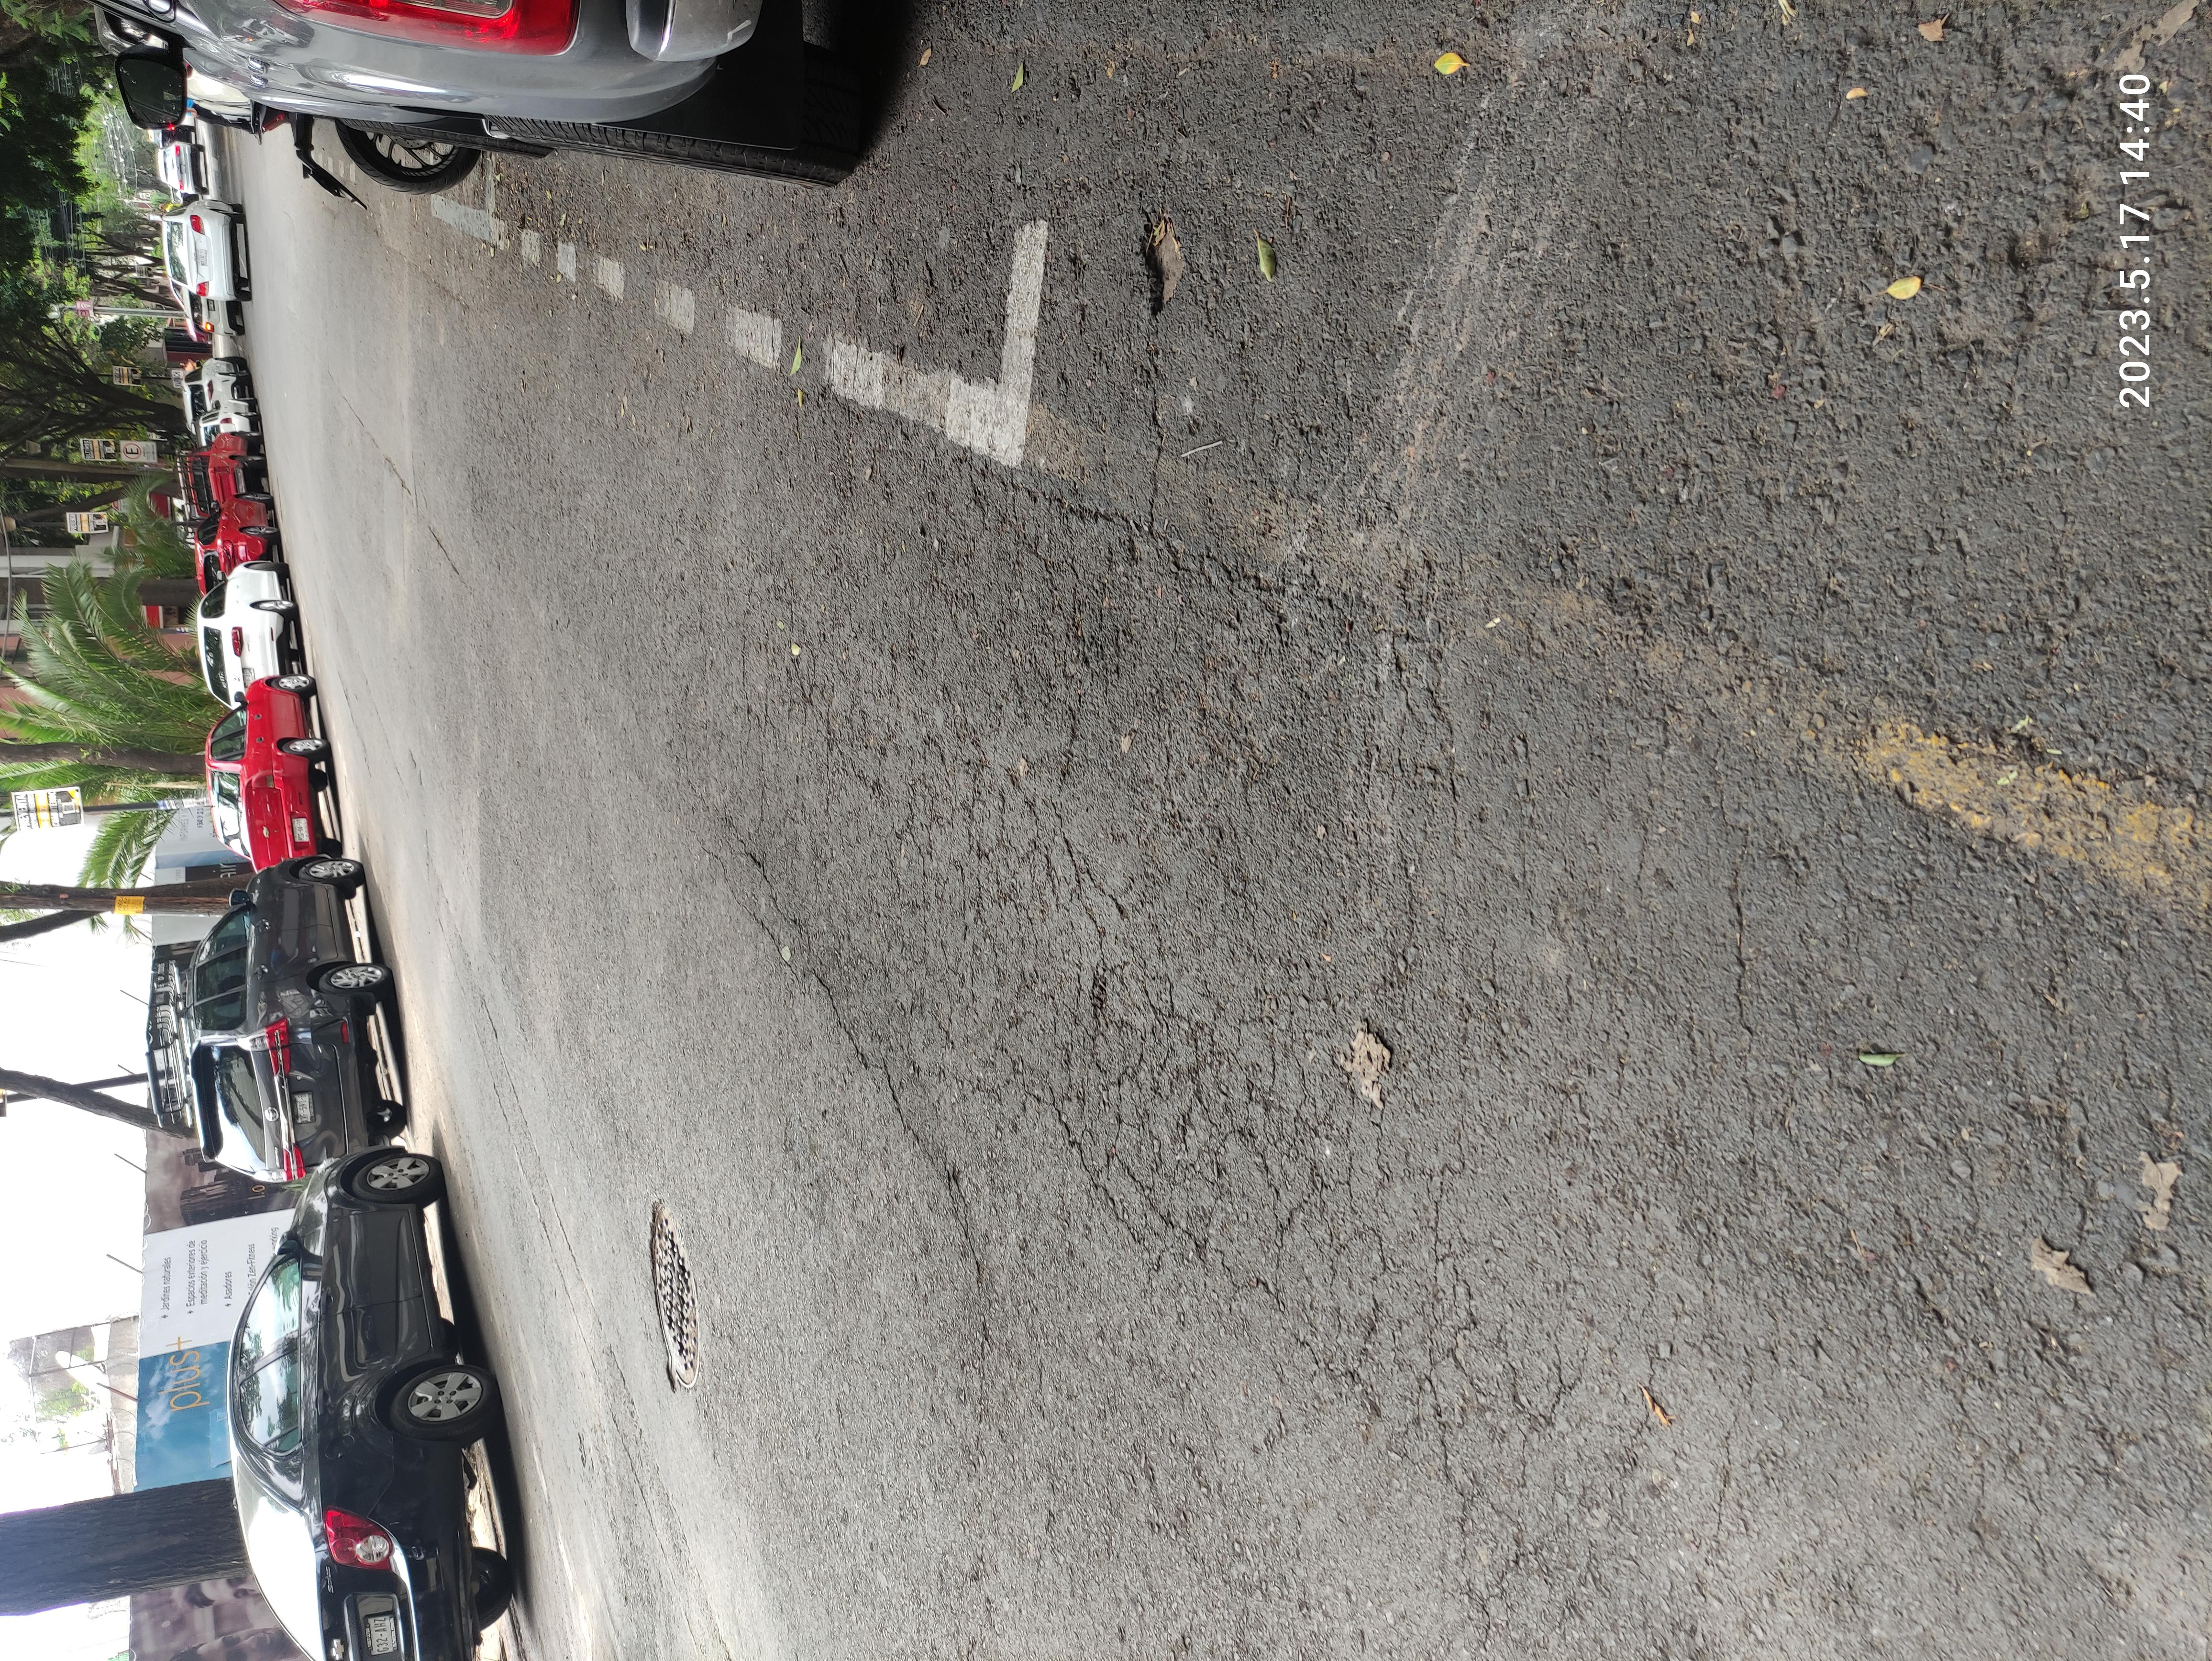alligator-crack: (35, 708, 1628, 1218), (720, 529, 1601, 698)
crack: (1403, 244, 1720, 354), (1790, 284, 1898, 356), (1172, 253, 1319, 279), (1160, 307, 1223, 316)
pothole: (1785, 841, 1938, 897)
